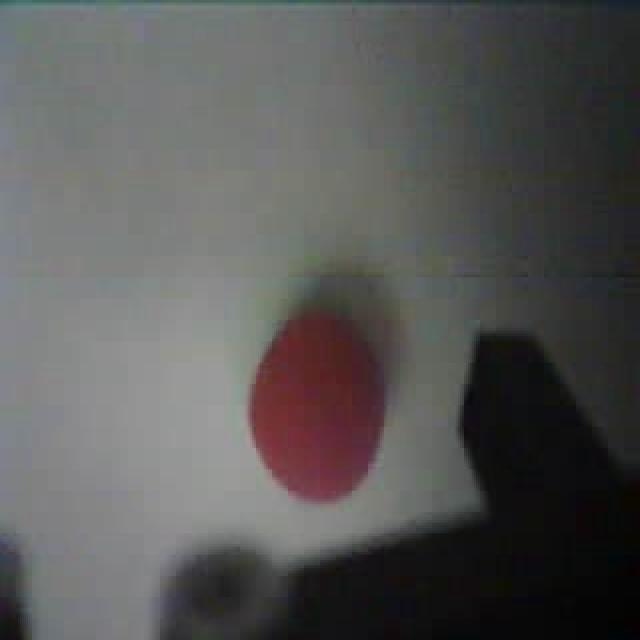red_ball: (246, 304, 392, 507)
